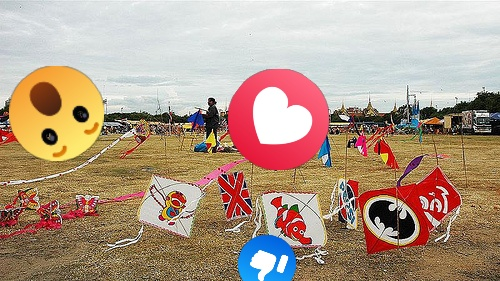like: (238, 235, 296, 281)
love: (228, 69, 329, 170)
wow: (9, 66, 104, 161)
